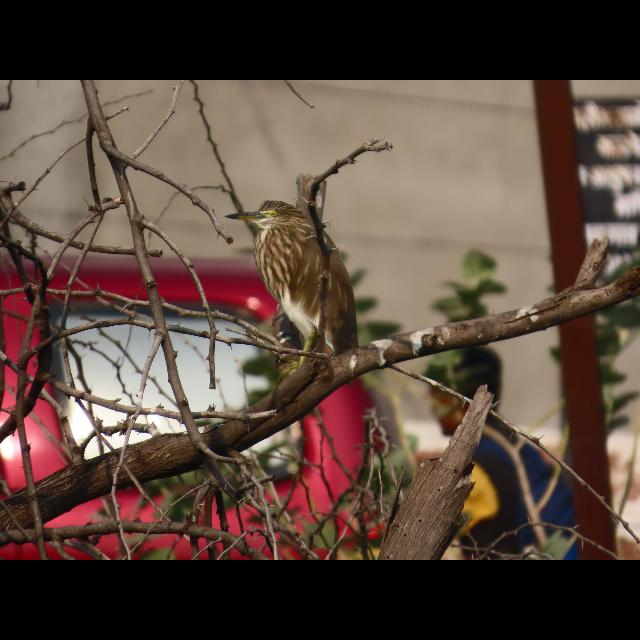heron: (226, 194, 368, 370)
